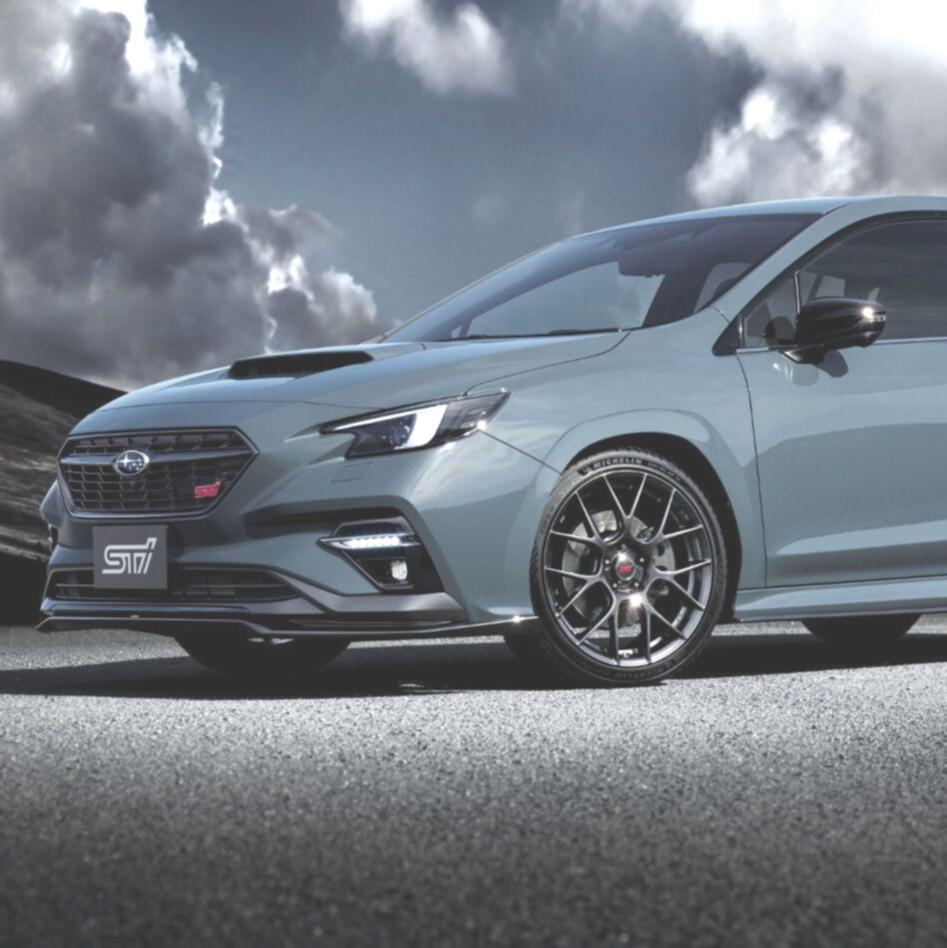subaru: (102, 434, 161, 485)
